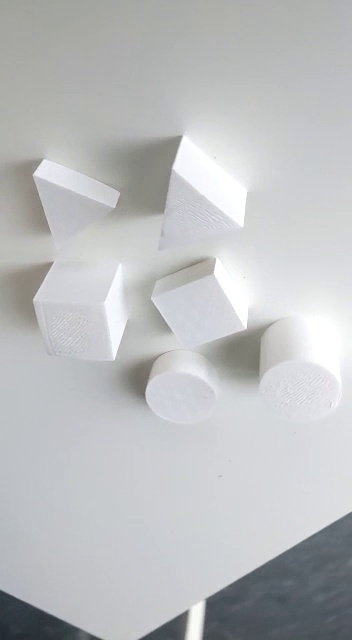Clyinder_short: (144, 346, 217, 425)
Cube: (30, 254, 129, 367)
Cube_short: (148, 253, 248, 361)
Cylinder: (258, 315, 345, 429)
Triangle: (158, 134, 252, 254)
Triangle_short: (29, 158, 127, 259)
